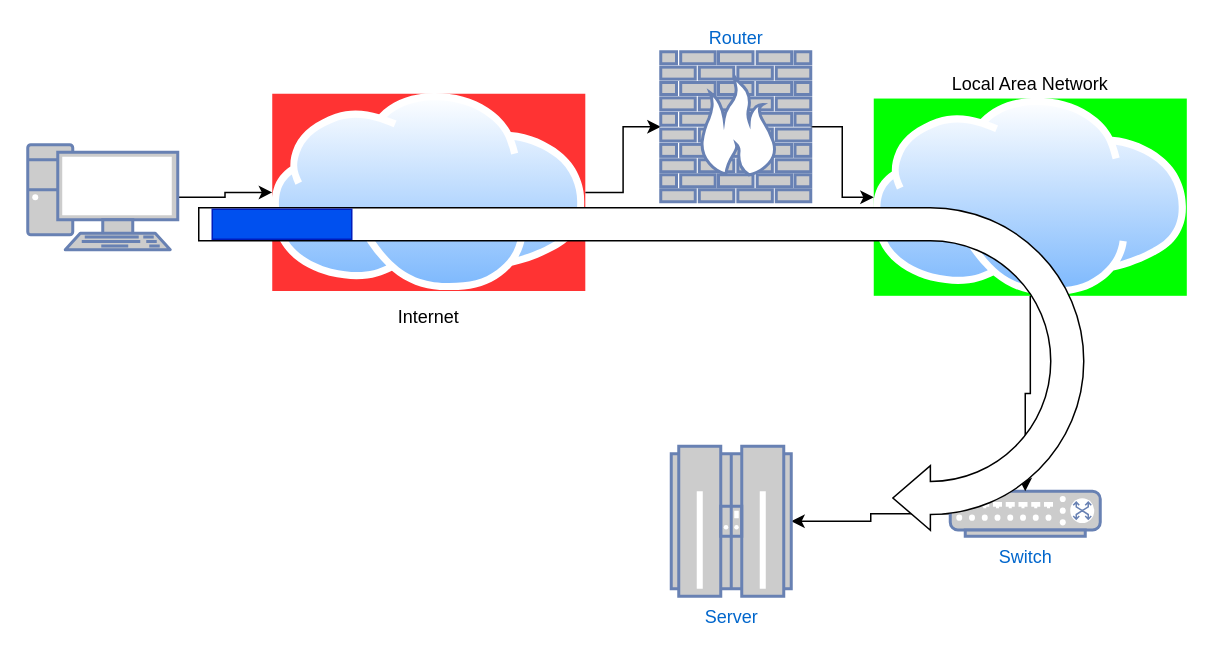
This 1212x653 diagram has some shape labels left out. Each missing label, with the centre of its shape:
Client: point 102,196
IP PACKET: point 281,223
